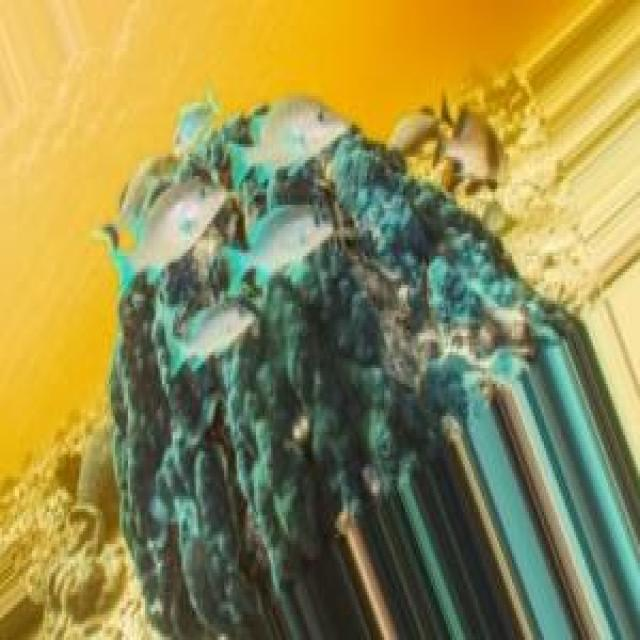Healthy: (97, 94, 549, 640)
